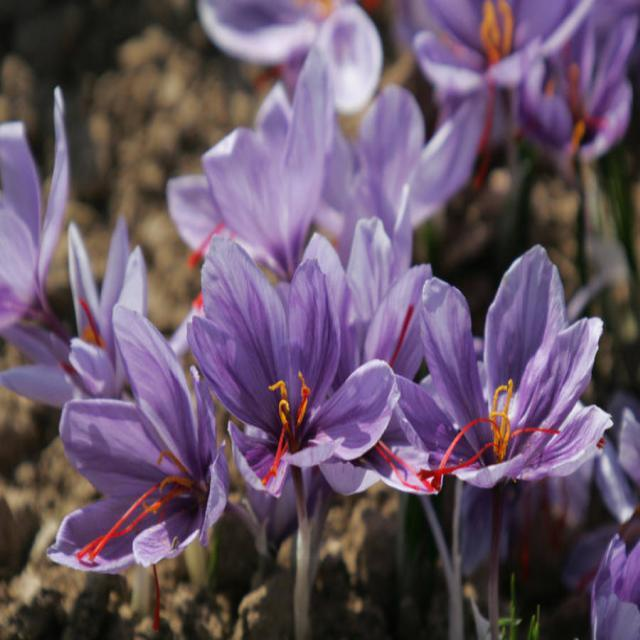Flower: (393, 280, 622, 500), (187, 235, 378, 496), (48, 300, 225, 571), (434, 9, 640, 173), (184, 82, 352, 267), (199, 0, 407, 116), (0, 80, 75, 363), (596, 539, 640, 640)
stigma: (68, 464, 198, 568), (377, 422, 488, 493), (249, 353, 312, 472), (485, 372, 553, 463)
